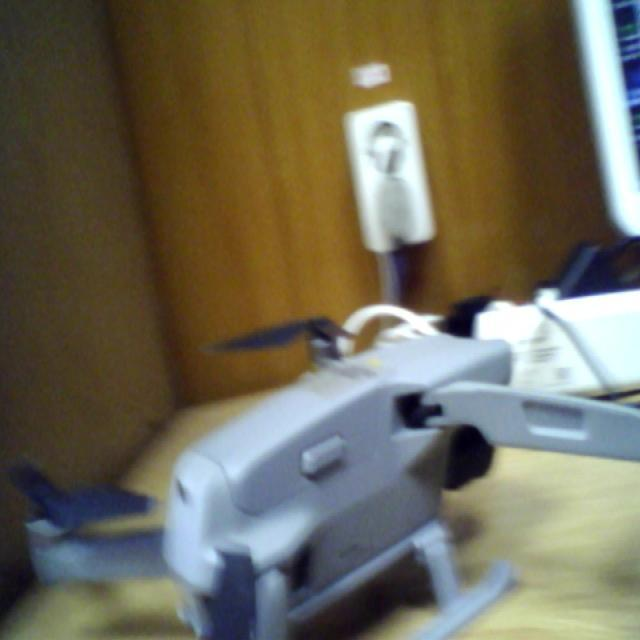drone: (25, 288, 640, 640)
